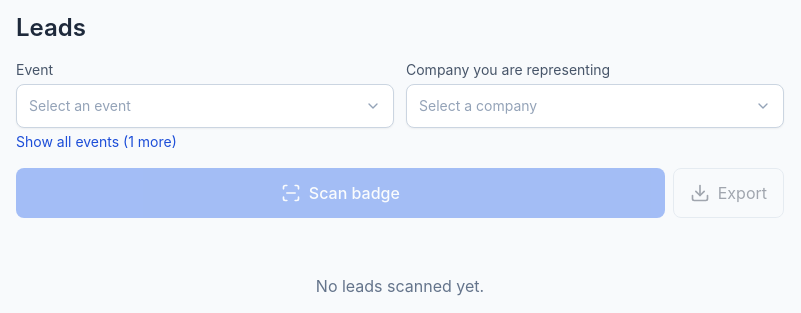
Test: LeadsPage — event picker › says so when no show is open for leads
Expected: the button "Show all events (1 more)" is shown, x1=16 y1=132 x2=177 y2=152
Click the dropdown labelled "Select an event" at (80, 106), box x1=16 y1=84 x2=394 y2=128
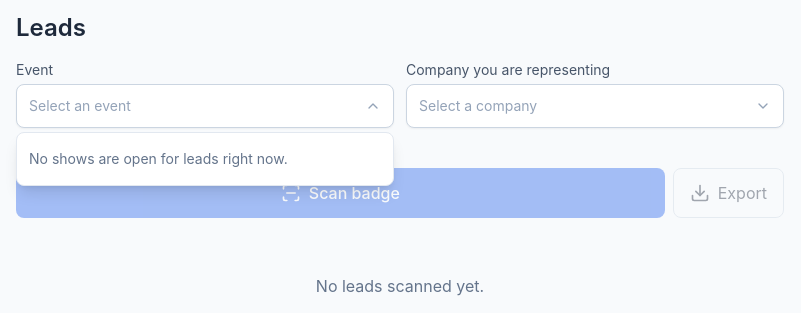
Expected: the list item "No shows are open for leads right now." is shown, x1=29 y1=150 x2=288 y2=167
